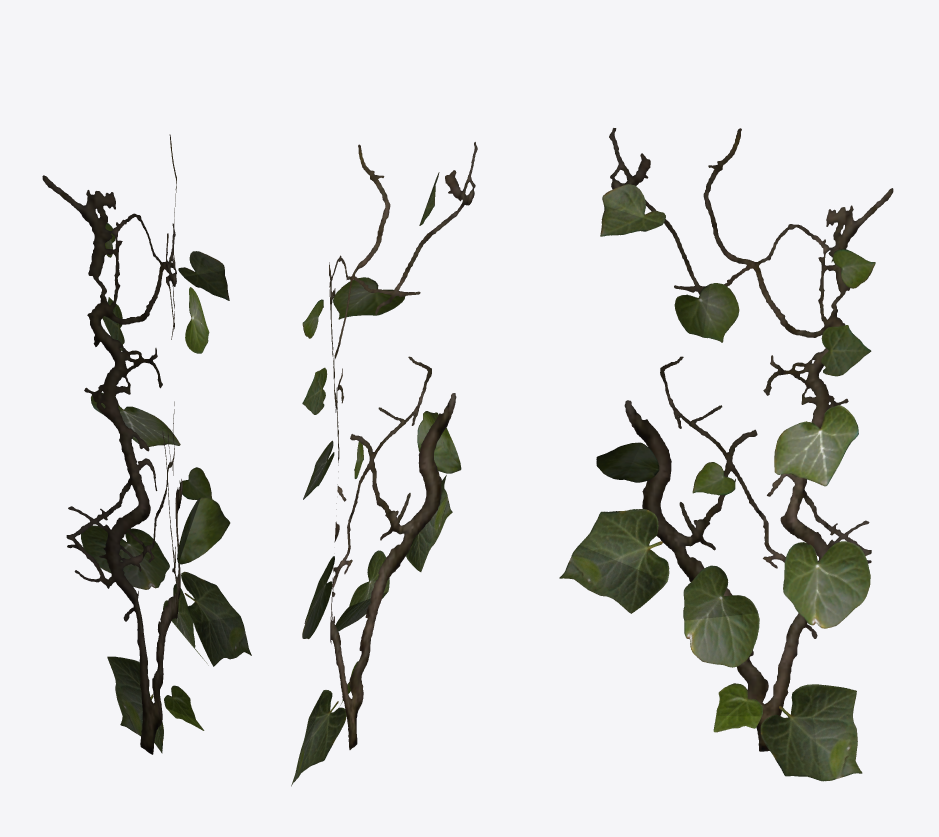
The model's file is ivy_03.DAE.
3 renders of one model, left to right at view 1: azimuth 30°, elevation 25°; view 2: azimuth 150°, elevation 25°; view 3: azimuth 270°, elevation 25°, orthographic. The views are drawn at different scales.
Parts seen in each view (by area): view 1: foliage_Ivy03, foliage_Ivy007; view 2: foliage_Ivy03, foliage_Ivy007; view 3: foliage_Ivy03, foliage_Ivy007.
Boxes of the visible parts, x1,y1,x2,y2 form: foliage_Ivy03: [42, 134, 251, 754]; foliage_Ivy007: [43, 139, 250, 754]; foliage_Ivy03: [291, 142, 477, 786]; foliage_Ivy007: [293, 143, 476, 782]; foliage_Ivy03: [559, 128, 893, 781]; foliage_Ivy007: [560, 185, 875, 780].
Bounding box in the file's own units: 0.3097 × 2.06 × 0.9359.
